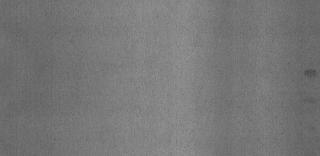oil spot: (303, 66, 317, 78)
